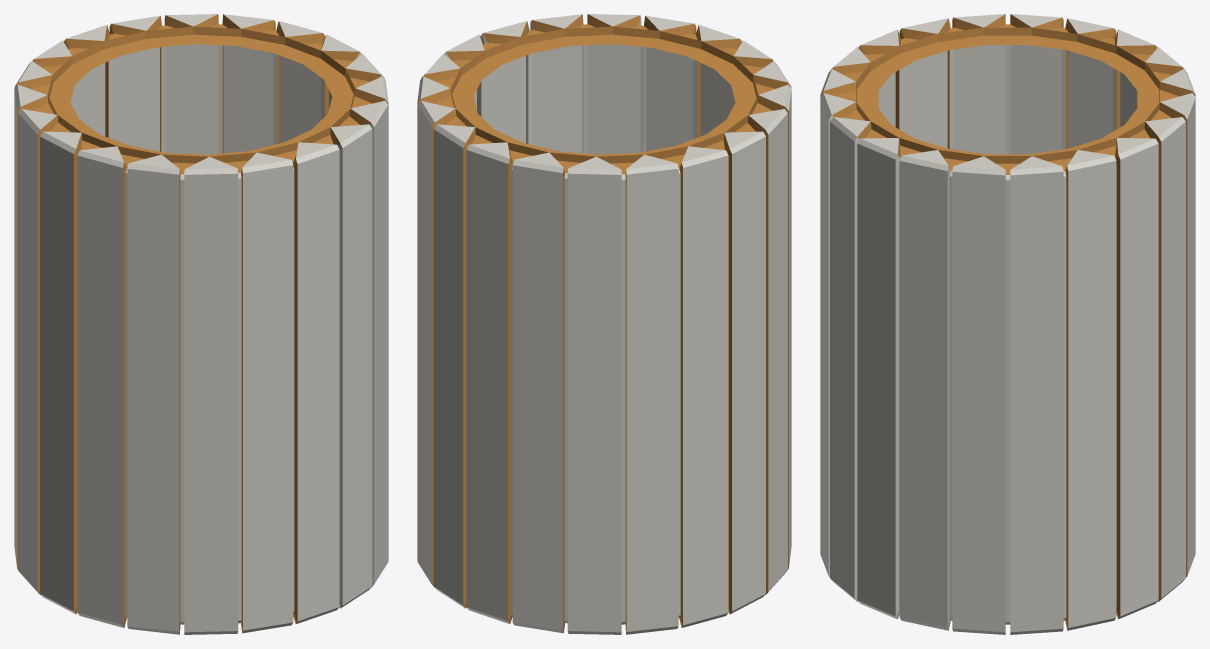
Rendered from Enviro_Trashcan_Creole_Untextured.fbx.
The picture shows the model from 3 angles, left to right: view 1: azimuth 30°, elevation 25°; view 2: azimuth 150°, elevation 25°; view 3: azimuth 270°, elevation 25°; orthographic projection.
Parts seen in each view (by area): view 1: TrashCan_Fancy; view 2: TrashCan_Fancy; view 3: TrashCan_Fancy.
Boxes of the visible parts, x1,y1,x2,y2 form: TrashCan_Fancy: (14, 14, 388, 634); TrashCan_Fancy: (417, 14, 791, 634); TrashCan_Fancy: (820, 14, 1195, 634).
Size of the model in its own units: 1.03 by 1.41 by 1.03.
